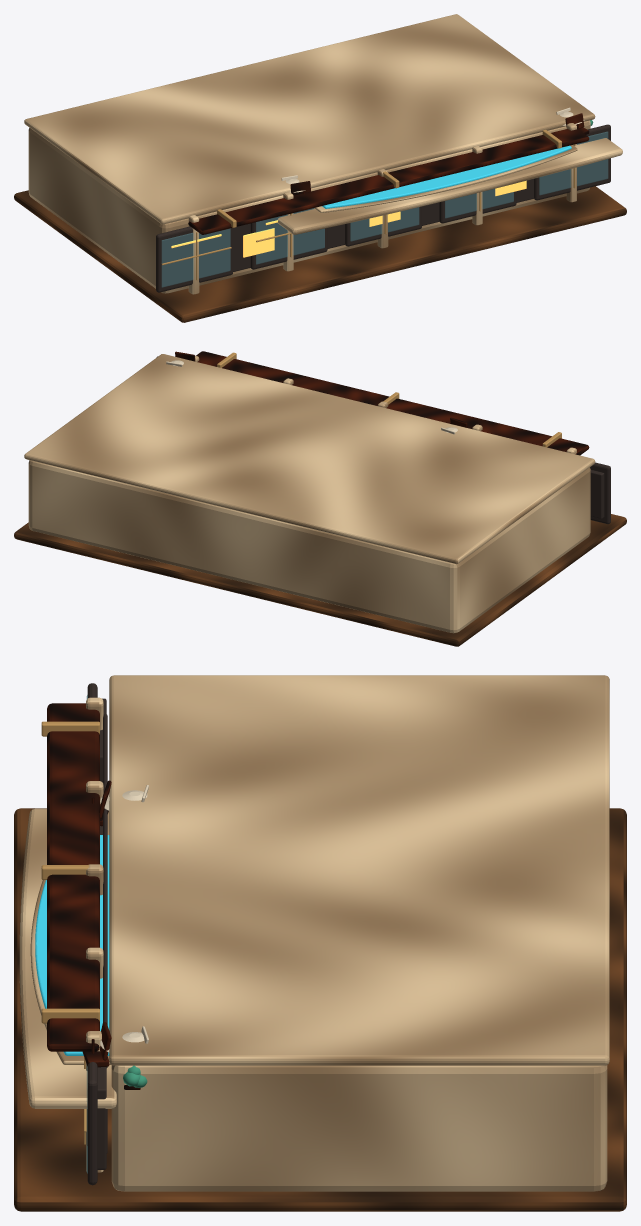
The model's file is hotel-base.glb.
3 views of the same model, one above another, from view 1: azimuth 30°, elevation 25°; view 2: azimuth 150°, elevation 25°; view 3: azimuth 270°, elevation 25° (orthographic). The views are drawn at different scales.
Parts seen in each view (by area): view 1: ASSET_HOTEL_BASE_PaleTravertine, HotelBaseSlab, ASSET_HOTEL_BASE_DeepInterior, ASSET_HOTEL_BASE_ArchitecturalGlass, ASSET_HOTEL_BASE_DarkTeak, BasePoolPoolWater, ASSET_HOTEL_BASE_WarmEmissive, ASSET_HOTEL_BASE_AgedChampagneBrass; view 2: ASSET_HOTEL_BASE_PaleTravertine, HotelBaseSlab, ASSET_HOTEL_BASE_DarkTeak, ASSET_HOTEL_BASE_DeepInterior; view 3: ASSET_HOTEL_BASE_PaleTravertine, HotelBaseSlab, ASSET_HOTEL_BASE_DarkTeak, ASSET_HOTEL_BASE_DeepInterior, BasePoolPoolWater, ASSET_HOTEL_BASE_AgedChampagneBrass.
Boxes of the visible parts, left/top/right/bottom form: ASSET_HOTEL_BASE_PaleTravertine: left=24, top=14, right=622, bottom=294; HotelBaseSlab: left=14, top=186, right=626, bottom=322; ASSET_HOTEL_BASE_DeepInterior: left=156, top=124, right=610, bottom=292; ASSET_HOTEL_BASE_ArchitecturalGlass: left=162, top=132, right=607, bottom=287; ASSET_HOTEL_BASE_DarkTeak: left=188, top=113, right=589, bottom=234; BasePoolPoolWater: left=322, top=145, right=571, bottom=208; ASSET_HOTEL_BASE_WarmEmissive: left=171, top=180, right=526, bottom=257; ASSET_HOTEL_BASE_AgedChampagneBrass: left=161, top=129, right=575, bottom=280; ASSET_HOTEL_BASE_PaleTravertine: left=24, top=354, right=595, bottom=633; HotelBaseSlab: left=14, top=514, right=626, bottom=646; ASSET_HOTEL_BASE_DarkTeak: left=175, top=351, right=589, bottom=455; ASSET_HOTEL_BASE_DeepInterior: left=156, top=356, right=610, bottom=524; ASSET_HOTEL_BASE_PaleTravertine: left=19, top=675, right=609, bottom=1191; HotelBaseSlab: left=14, top=808, right=626, bottom=1211; ASSET_HOTEL_BASE_DarkTeak: left=47, top=703, right=140, bottom=1089; ASSET_HOTEL_BASE_DeepInterior: left=87, top=683, right=107, bottom=1185; BasePoolPoolWater: left=35, top=835, right=109, bottom=1055; ASSET_HOTEL_BASE_AgedChampagneBrass: left=41, top=721, right=99, bottom=1144.
Size of the model in its own units: 17 by 3.16 by 11.
11 materials, 3 textured.
